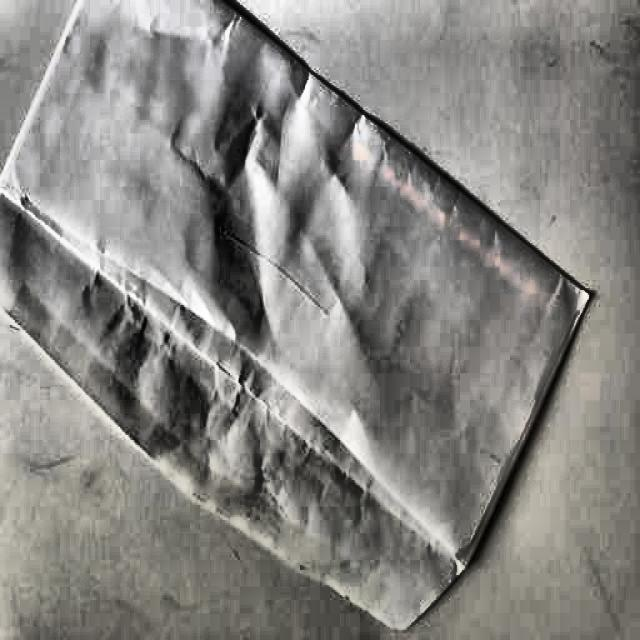paper: (0, 0, 597, 630)
